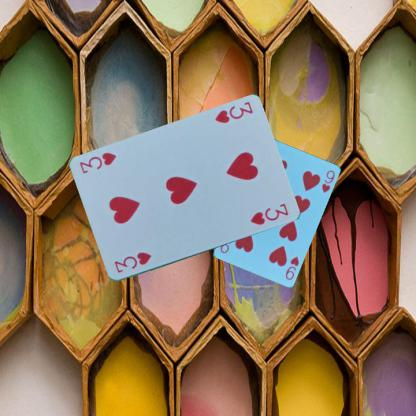3h: (212, 99, 254, 125), (112, 250, 152, 274)
9h: (282, 254, 300, 281)
